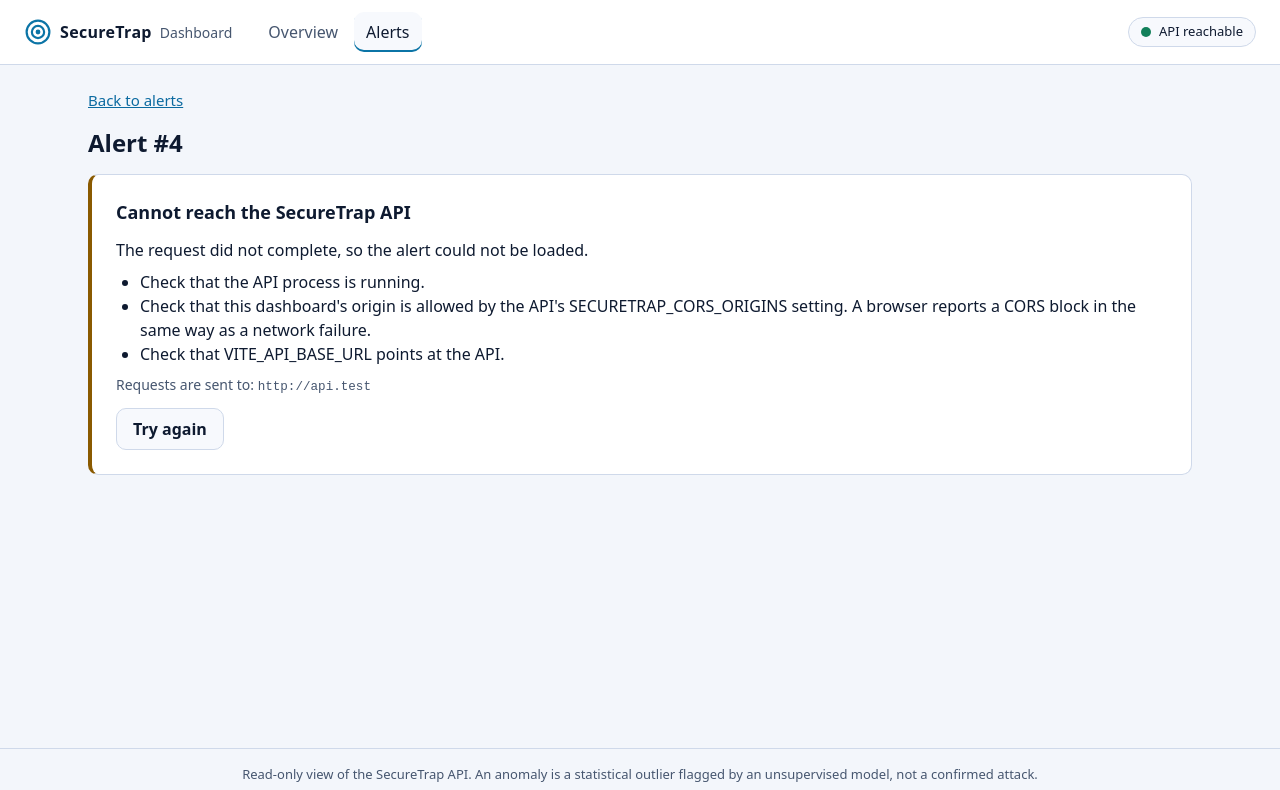
Test: AlertDetailPage: API unavailable › recovers when the API comes back and the user tries again
The width and height of the screenshot is (1280, 790).
Expected: the heading "Cannot reach the SecureTrap API" is shown, [116,200,411,224]
Click the button "Try again".
click(170, 429)  # box [116,408,224,450]
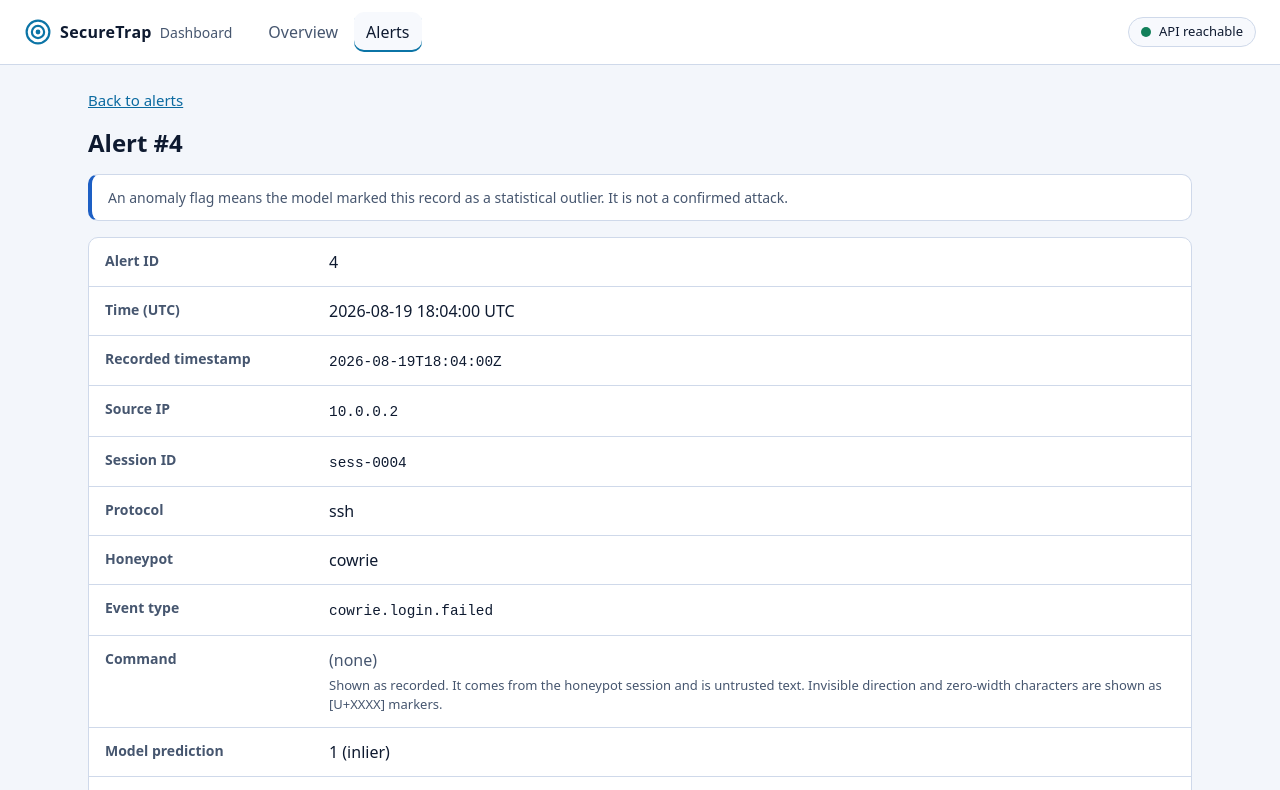
Expected: the text "sess-0004" is shown, [329,455,407,471]
